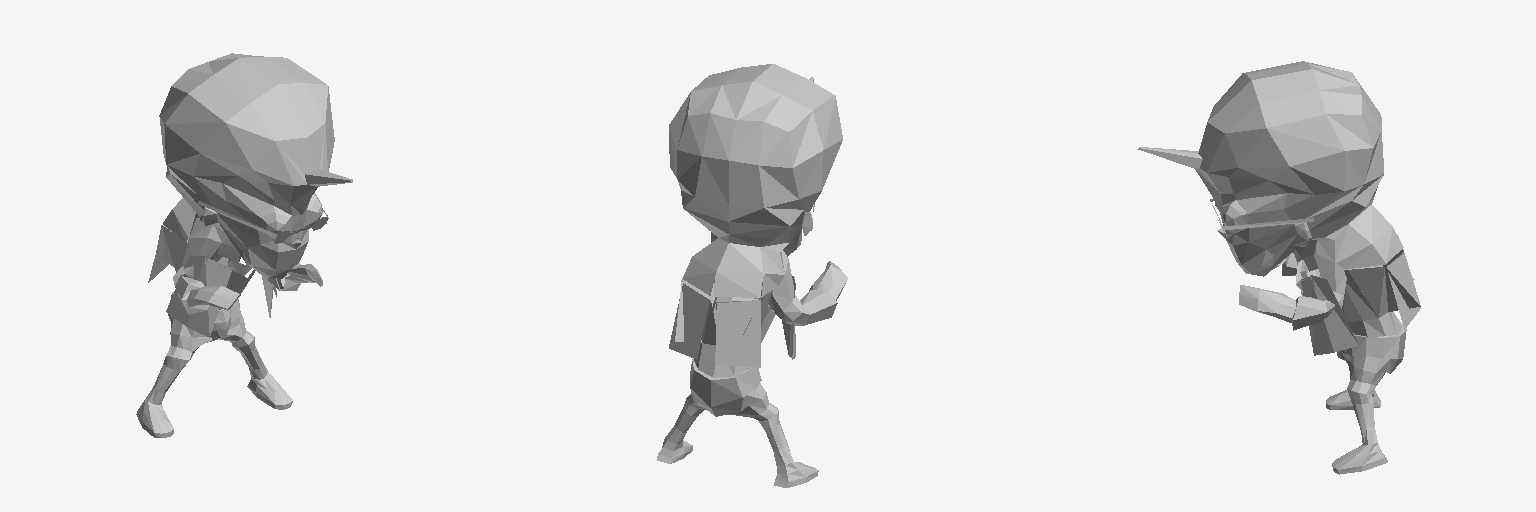
The model's file is GuardianUnicornio_000062.obj.
3 views of the same model, side by side, from view 1: azimuth 30°, elevation 25°; view 2: azimuth 150°, elevation 25°; view 3: azimuth 270°, elevation 25° (orthographic).
Visible parts, largest first — view 1: pPlane8; view 2: pPlane8; view 3: pPlane8.
Part boxes in pixels (left/top/right/bottom): pPlane8: left=136, top=53, right=352, bottom=437; pPlane8: left=657, top=64, right=847, bottom=487; pPlane8: left=1138, top=61, right=1420, bottom=474.
Bounding box in the file's own units: 7.6 × 17.79 × 12.23.